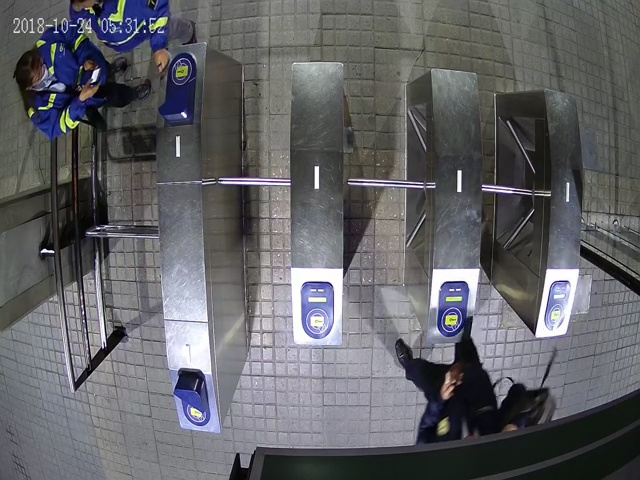Chaleco_azul: (13, 21, 151, 139), (69, 1, 194, 77)
